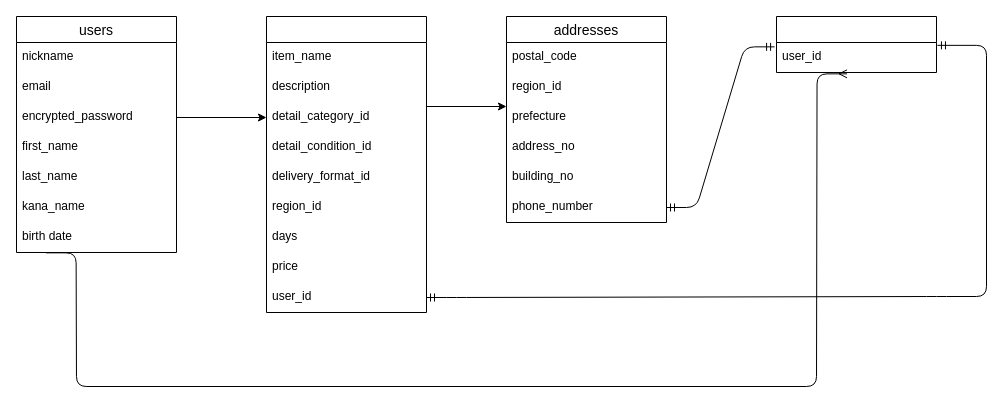
Image size: 1003x403. Some labels were removed from this diagram. Here are the shapes that lost their labels. From the top down, the box of each, then its label:
(776, 16, 936, 72): purchases
(266, 16, 426, 312): items
